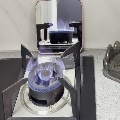fire: (26, 46, 65, 92)
